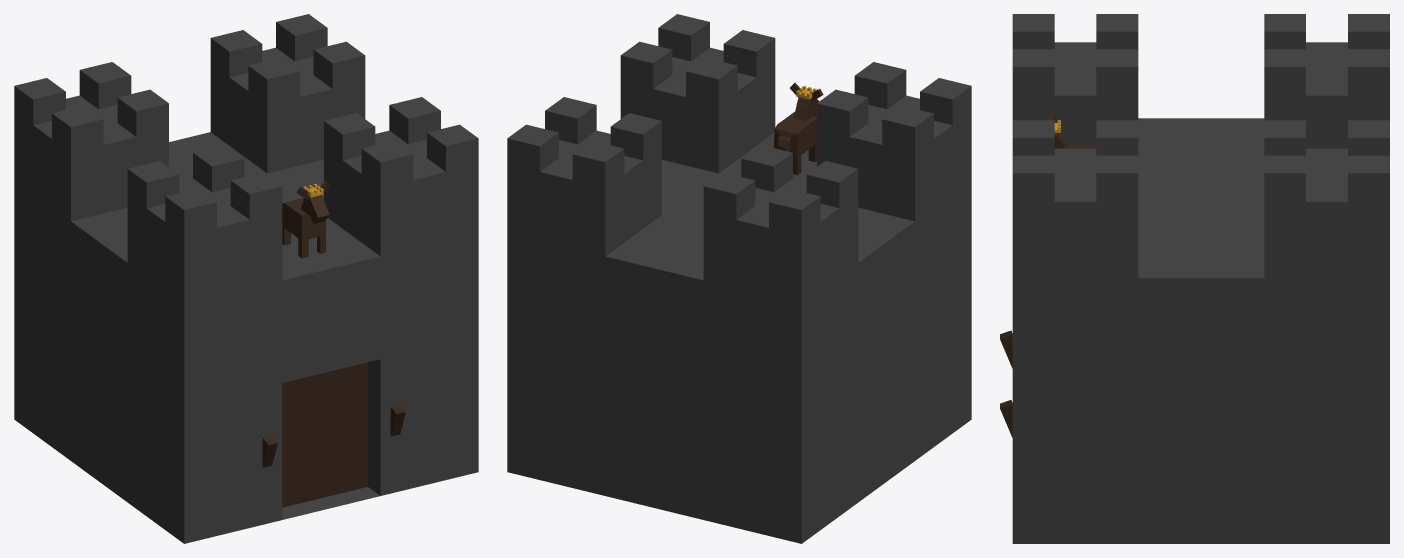
The model's file is Castle.fbx.
3 renders of one model, left to right at view 1: azimuth 30°, elevation 25°; view 2: azimuth 150°, elevation 25°; view 3: azimuth 270°, elevation 25°, orthographic. The views are drawn at different scales.
Parts seen in each view (by area): view 1: Cube.010; view 2: Cube.010; view 3: Cube.010.
Boxes of the visible parts, x1,y1,x2,y2 form: Cube.010: [14, 14, 478, 543]; Cube.010: [507, 14, 971, 543]; Cube.010: [1000, 14, 1389, 543].
Bounding box in the file's own units: 400 × 433 × 413.
